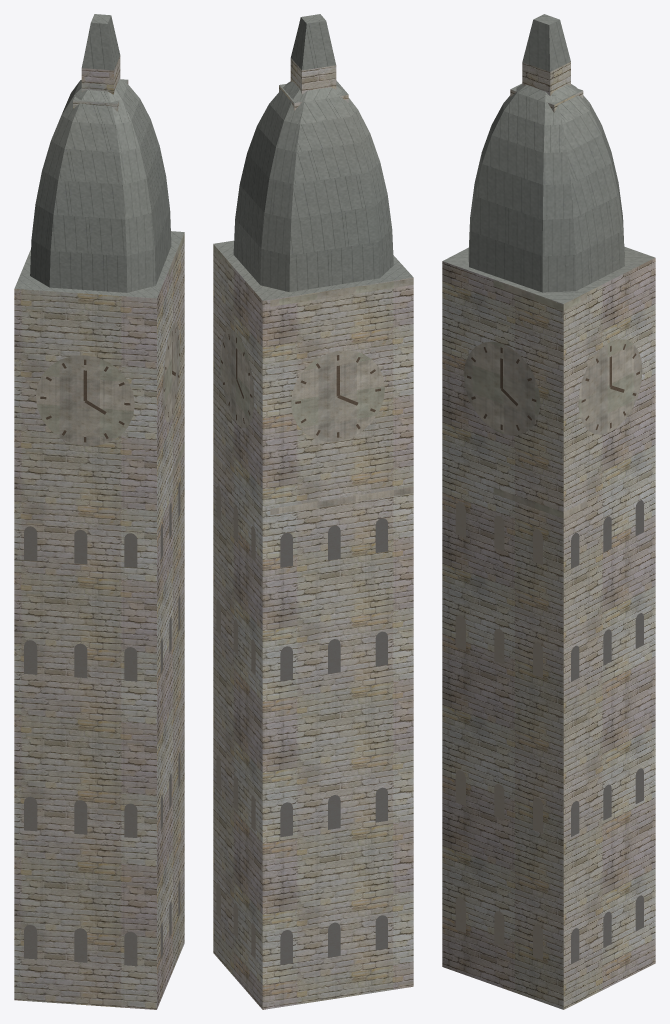
File: tour-de-l-horloge.glb
The picture shows the model from 3 angles, left to right: view 1: azimuth 30°, elevation 25°; view 2: azimuth 150°, elevation 25°; view 3: azimuth 270°, elevation 25°; orthographic projection.
Visible parts, largest first — view 1: stone, roof, trim, window, metal; view 2: stone, roof, trim, window, metal; view 3: stone, roof, trim, window, metal.
Boxes of the visible parts, <box> form: stone: <box>14,56,184,1009</box>; roof: <box>14,14,184,298</box>; trim: <box>36,233,184,485</box>; window: <box>24,482,180,965</box>; metal: <box>40,327,179,442</box>; stone: <box>213,58,413,1009</box>; roof: <box>213,14,413,300</box>; trim: <box>213,245,413,515</box>; window: <box>216,485,387,964</box>; metal: <box>221,334,380,437</box>; stone: <box>442,61,655,1009</box>; roof: <box>443,14,654,303</box>; trim: <box>464,268,642,518</box>; window: <box>455,500,643,963</box>; metal: <box>467,344,639,430</box>.
Bounding box in the file's own units: 13.66 × 67 × 13.68.
Materials: 5 (5 with a texture image).
